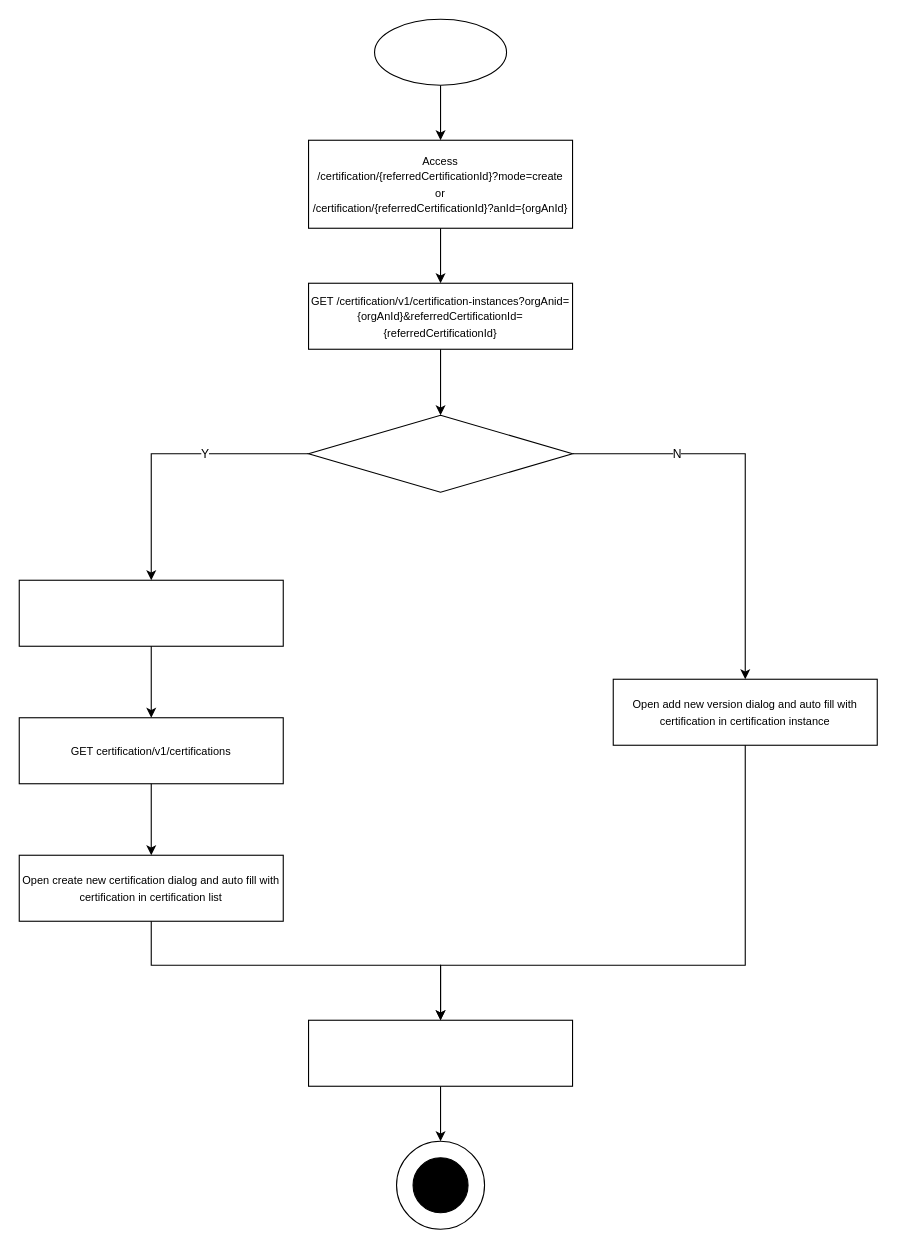
Some shapes in this 897 by 1249 pixel diagram are drawn without their labels. Here are the shapes that lost their labels. From the top down, the box of each, then its label:
(307, 414, 573, 492): Certification instance list is empty
(18, 579, 283, 646): Jump back to certification list view
(307, 1019, 573, 1086): Fill in rest info and save with referred certification id
